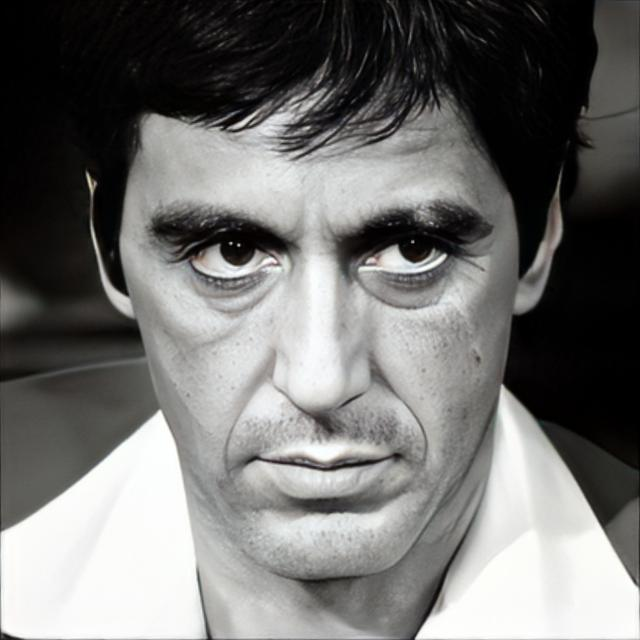anger: (127, 60, 515, 588)
